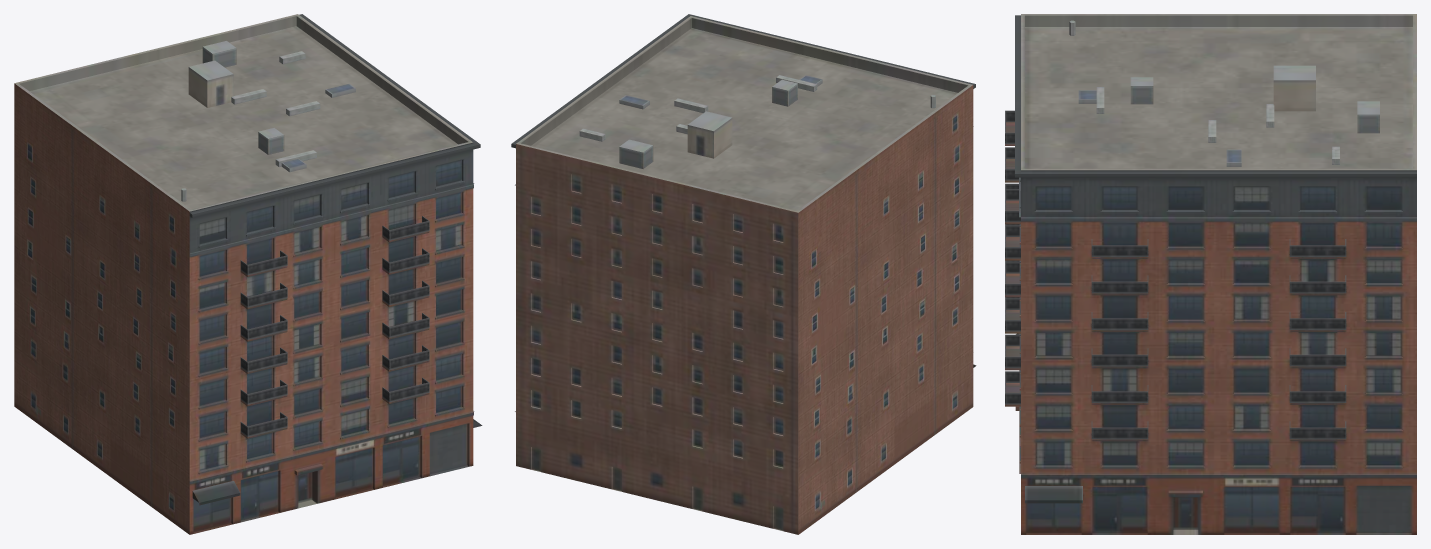
Rendered from sf_apartment_d.glb.
3 renders of one model, left to right at view 1: azimuth 30°, elevation 25°; view 2: azimuth 150°, elevation 25°; view 3: azimuth 270°, elevation 25°, orthographic. The views are drawn at different scales.
Parts seen in each view (by area): view 1: sf_apartment_d; view 2: sf_apartment_d; view 3: sf_apartment_d.
Part boxes in pixels (x1,y1,x2,y2): sf_apartment_d: (14,14,482,534); sf_apartment_d: (511,14,976,534); sf_apartment_d: (1005,14,1416,534).
Size of the model in its own units: 29.2 by 32.15 by 31.2.
1 material, 1 textured.
